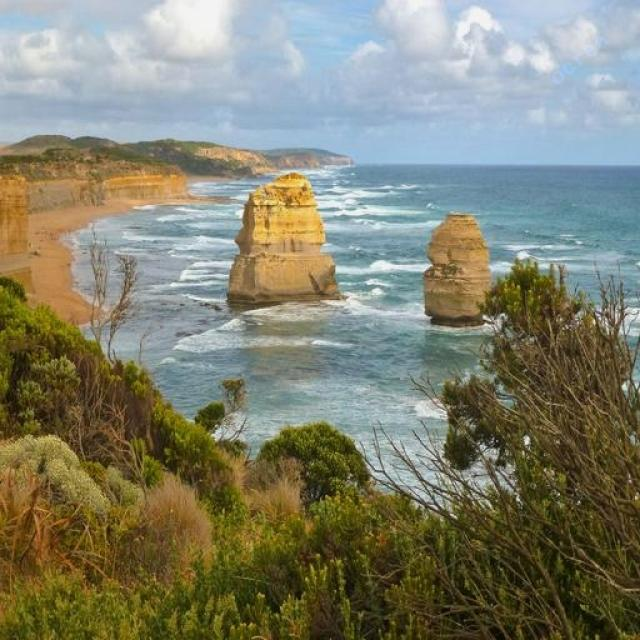watermark: (549, 22, 610, 88)
